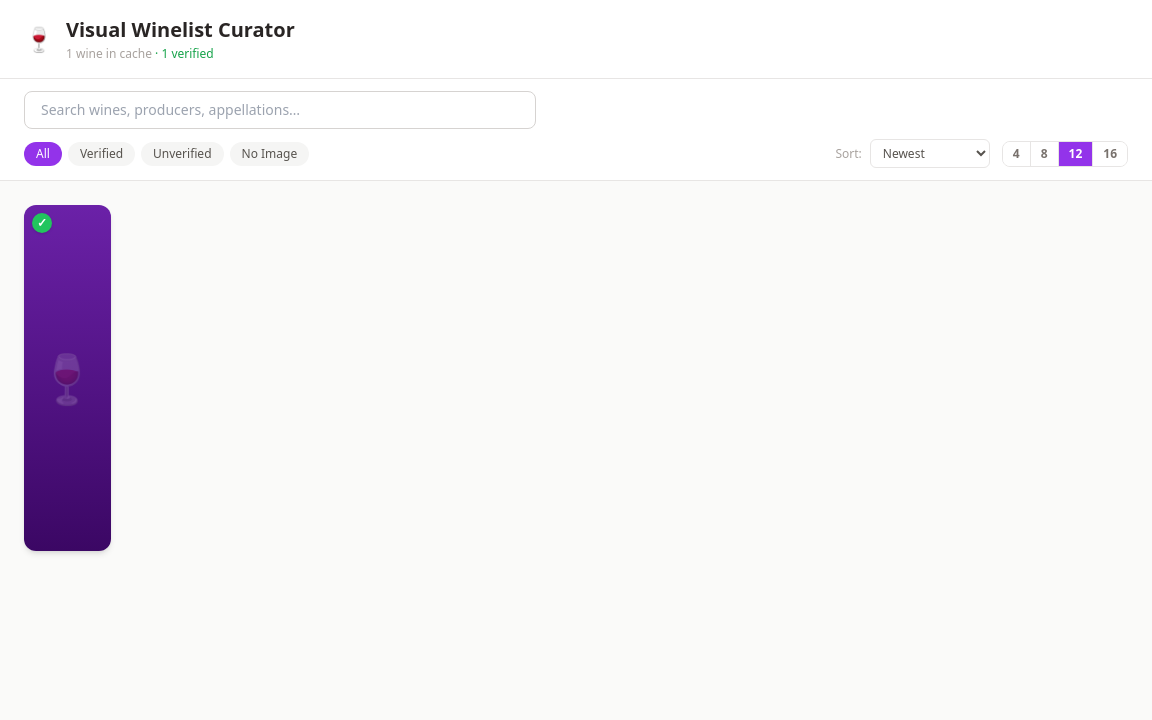
Test case: handleVerify decrements verified_total when unverifying a verified wine
Click the button named "Test Wine".
click(67, 378)  # box x1=24 y1=205 x2=110 y2=551
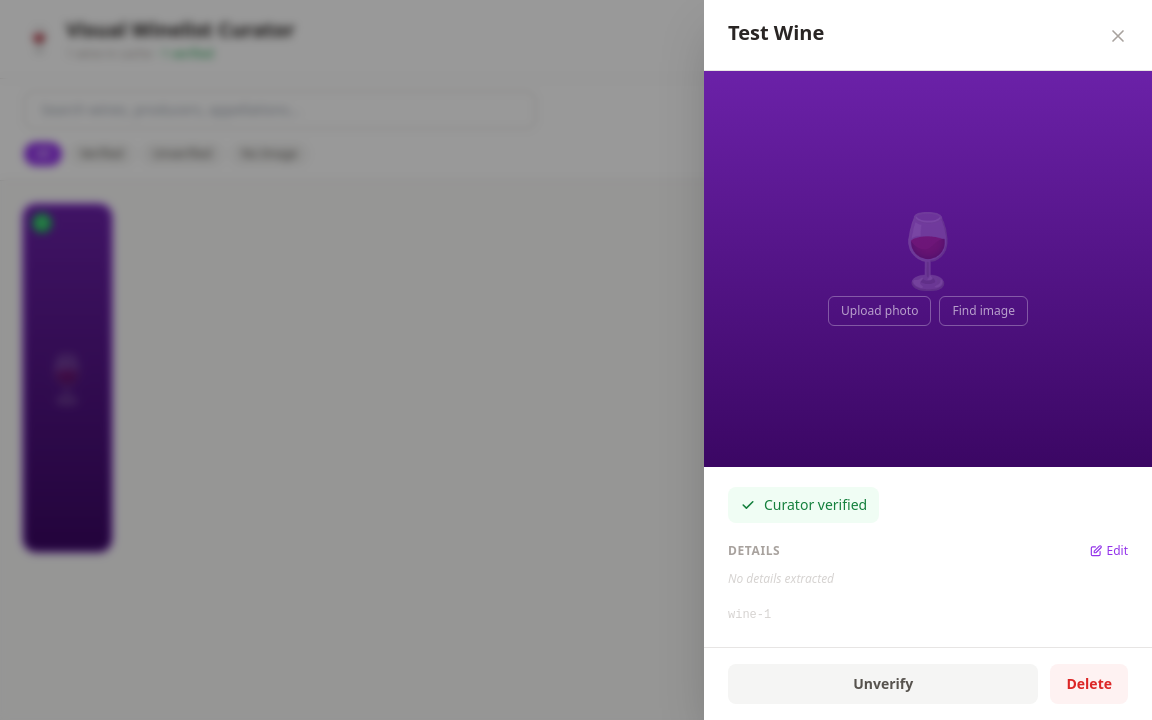
Click the button "Unverify".
click(883, 684)  # box x1=728 y1=664 x2=1038 y2=704
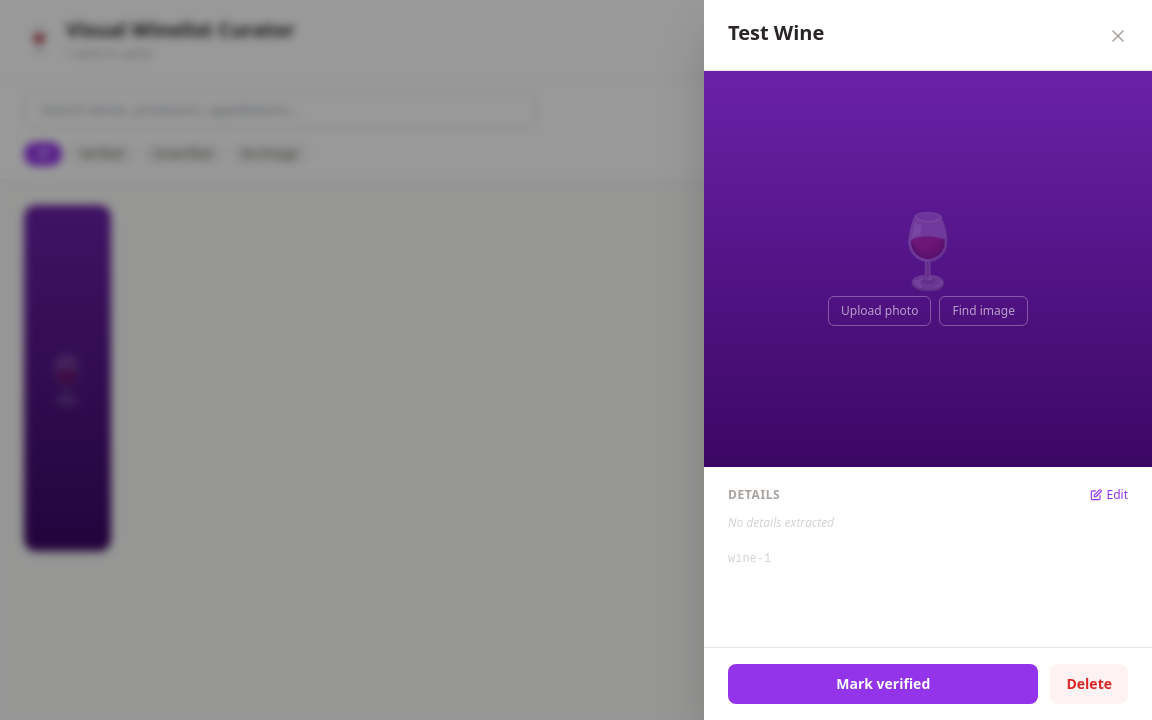
Check: the text "1 verified" is gone
